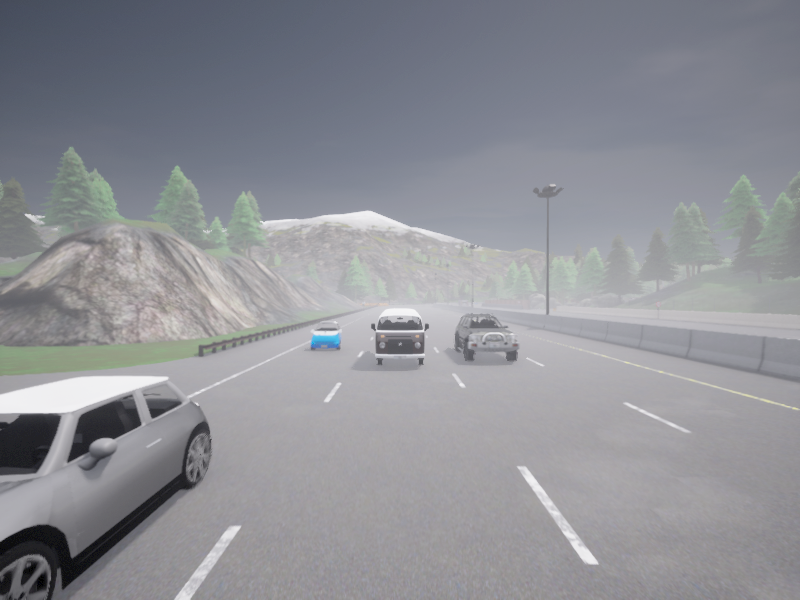vehicle: (0, 376, 211, 599), (371, 308, 428, 365), (454, 313, 519, 361), (310, 321, 341, 350), (457, 300, 467, 306), (475, 302, 477, 304)
